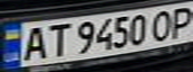0: (127, 11, 154, 46)
4: (93, 16, 118, 52)
5: (112, 14, 133, 50)
9: (72, 18, 96, 55)
A: (15, 24, 51, 62)
O: (148, 8, 175, 42)
P: (166, 3, 193, 39)
T: (42, 21, 72, 59)
